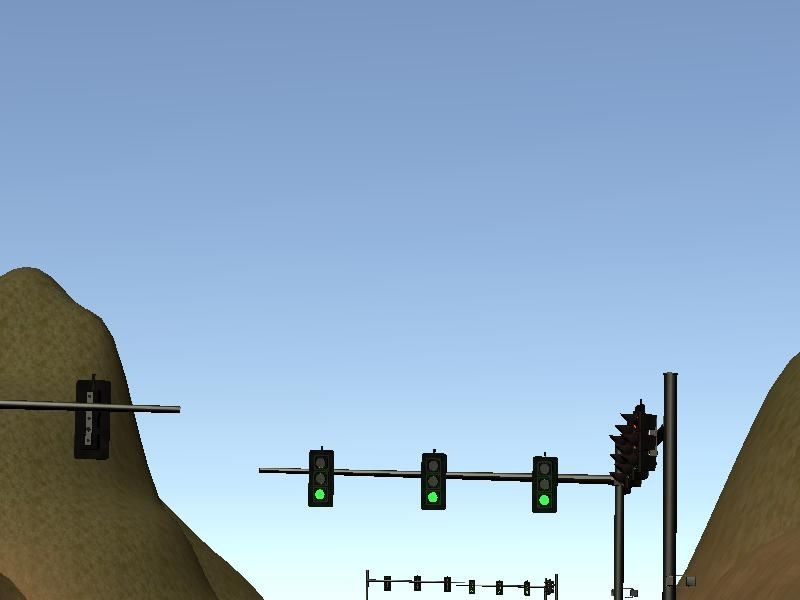traffic_light_green: (271, 443, 614, 515)
